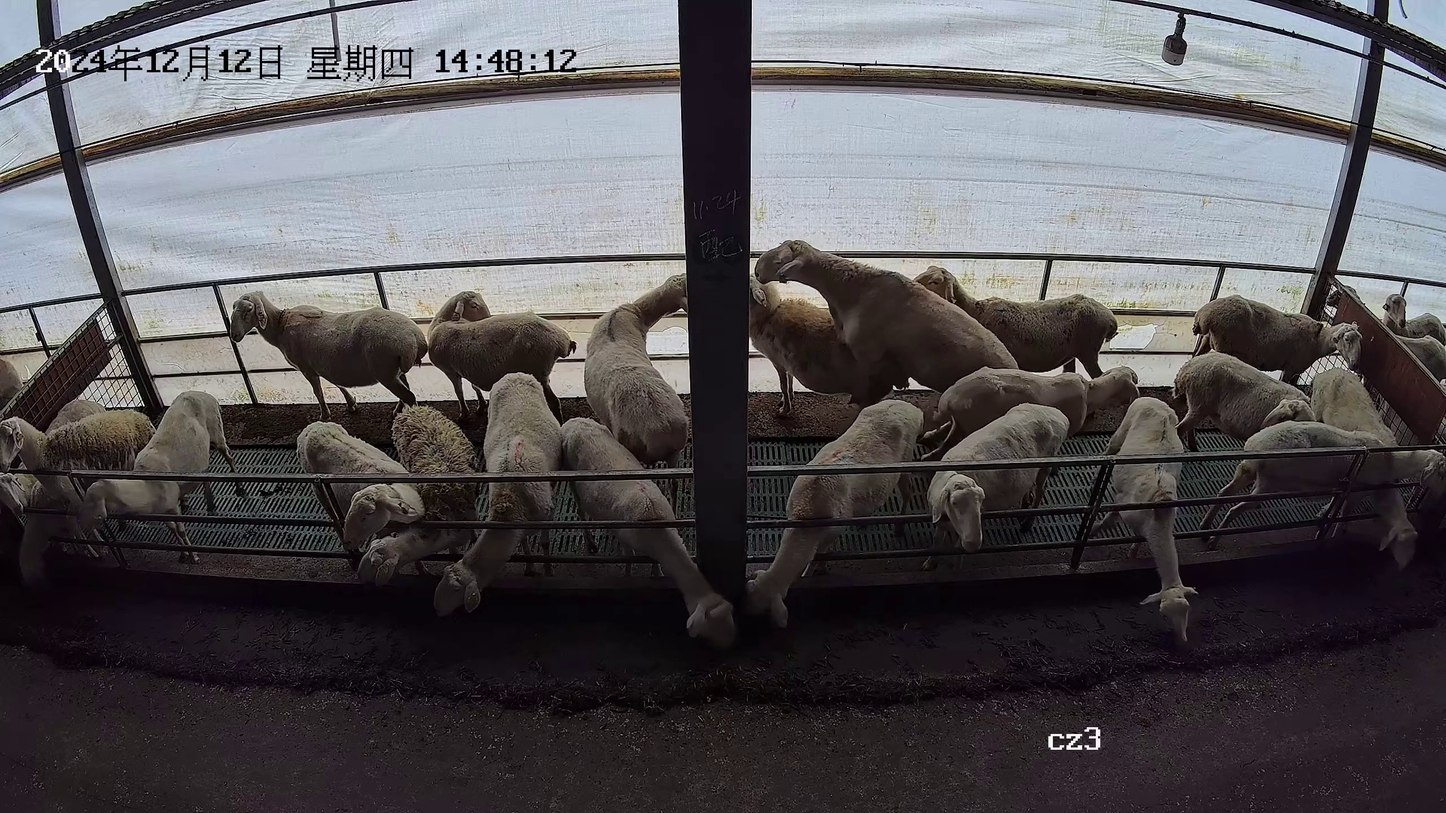Smounting: (745, 237, 1020, 423)
mounted: (748, 273, 897, 418)
